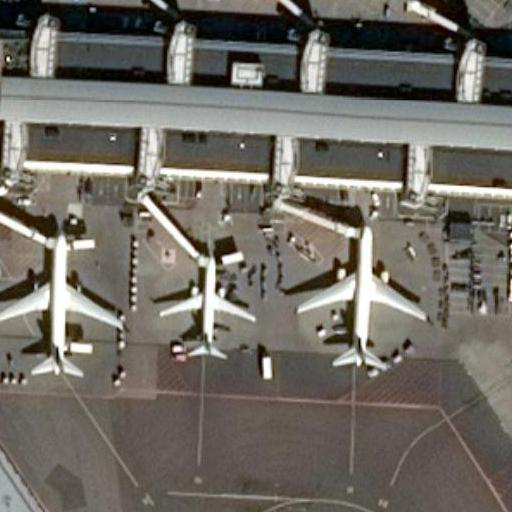Aircraft: (294, 221, 426, 373), (0, 222, 122, 384), (153, 245, 256, 362)
